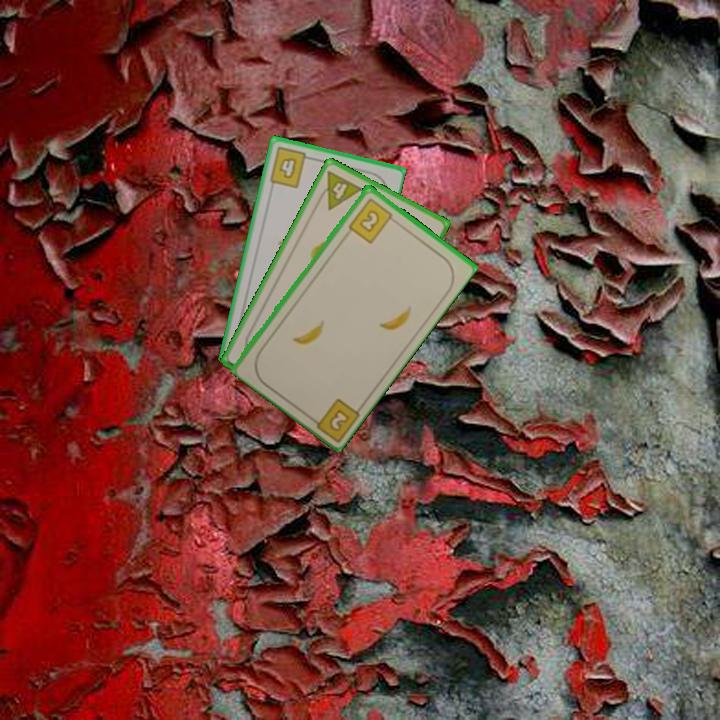2b: (305, 394, 363, 443), (345, 194, 399, 246)
4b: (266, 143, 316, 191)
4p: (313, 167, 366, 213)
